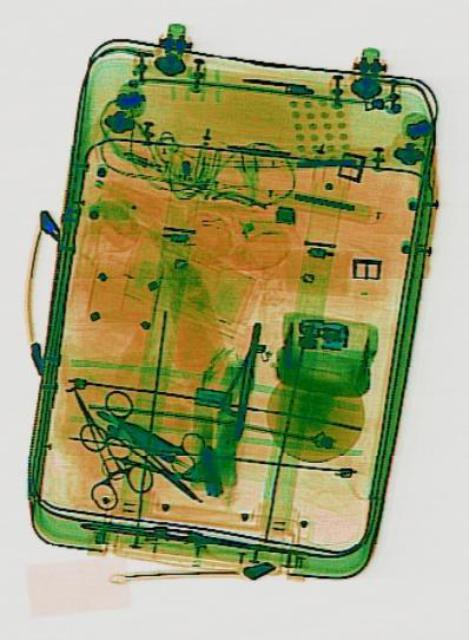Scissors: (72, 376, 218, 532), (46, 368, 155, 522), (94, 432, 171, 492), (139, 419, 205, 479)
